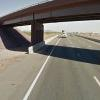Bridge: (2, 1, 96, 40)
